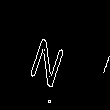N_NE: (33, 24, 77, 86)
